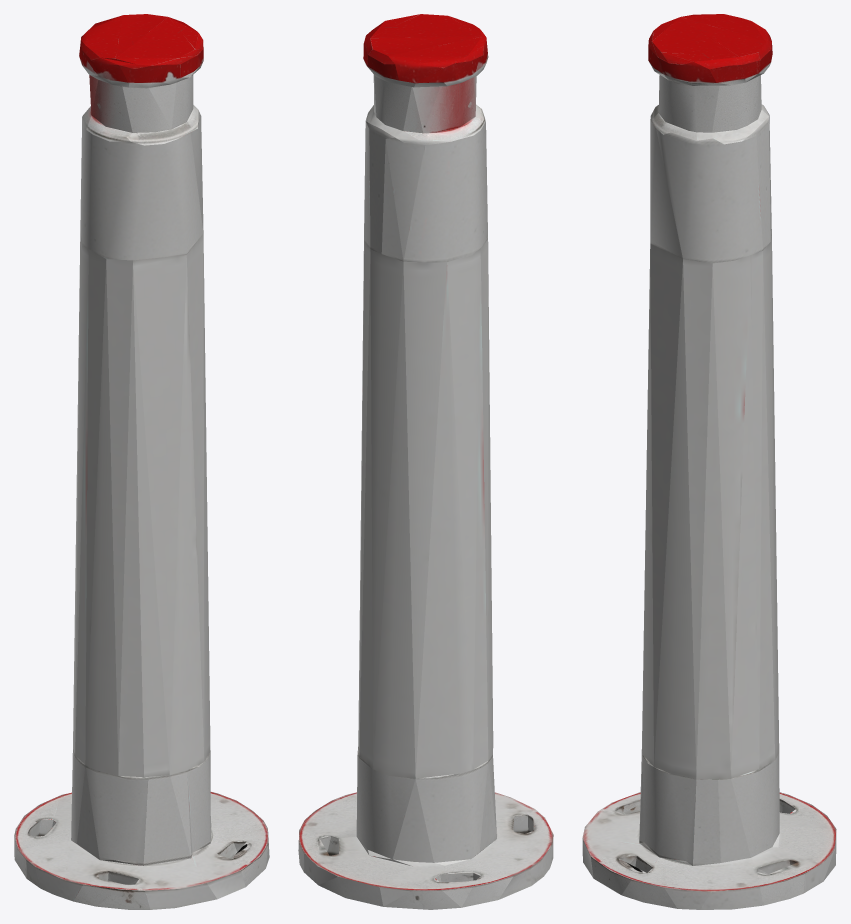
File: bermuda-channel-marker.glb
The picture shows the model from 3 angles, left to right: view 1: azimuth 30°, elevation 25°; view 2: azimuth 150°, elevation 25°; view 3: azimuth 270°, elevation 25°; orthographic projection.
Parts seen in each view (by area): view 1: output_unwrapped; view 2: output_unwrapped; view 3: output_unwrapped.
Boxes of the visible parts, <box> form: output_unwrapped: <box>14,14,269,909</box>; output_unwrapped: <box>298,14,553,909</box>; output_unwrapped: <box>582,14,836,909</box>.
Bounding box in the file's own units: 0.5377 × 1.9 × 0.5342.
Materials: 1 (1 with a texture image).
